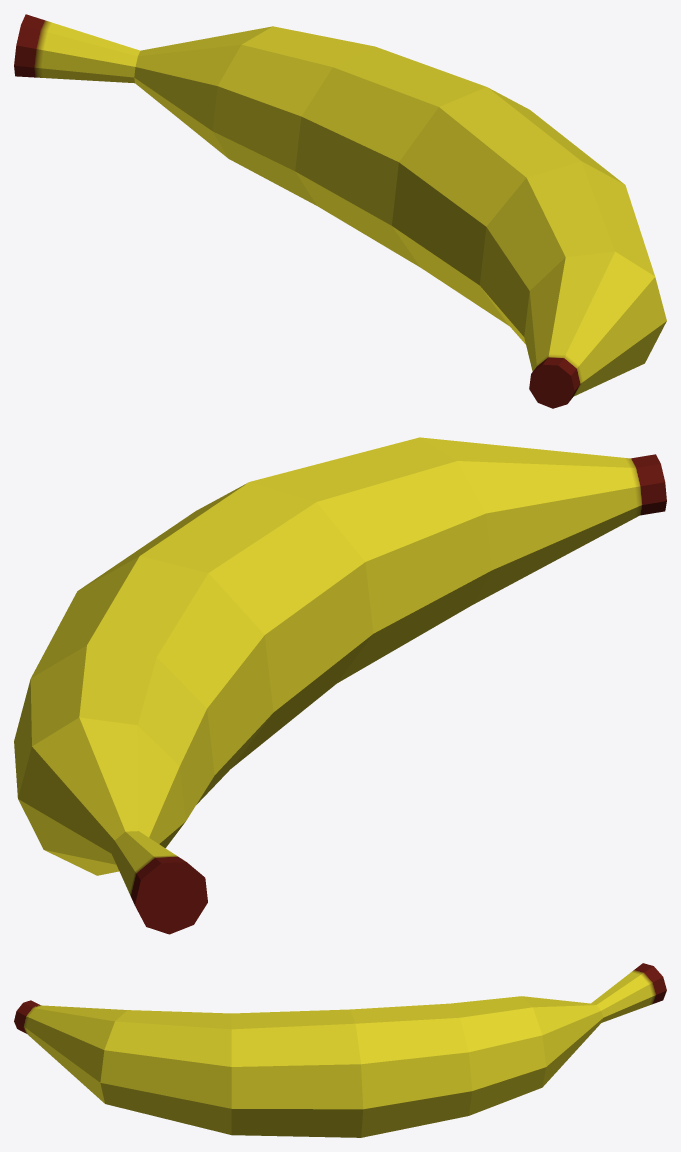
Rendered from banana.gltf.
3 views of the same model, one above another, from view 1: azimuth 30°, elevation 25°; view 2: azimuth 150°, elevation 25°; view 3: azimuth 270°, elevation 25° (orthographic). The views are drawn at different scales.
Visible parts, largest first — view 1: Cylinder; view 2: Cylinder; view 3: Cylinder.
Boxes of the visible parts, box(x1,y1,x2,y2) form: Cylinder: box(14, 14, 666, 408); Cylinder: box(14, 437, 666, 934); Cylinder: box(14, 963, 666, 1137).
Bounding box in the file's own units: 0.3723 × 0.1949 × 0.964.
1 material, 1 textured.
